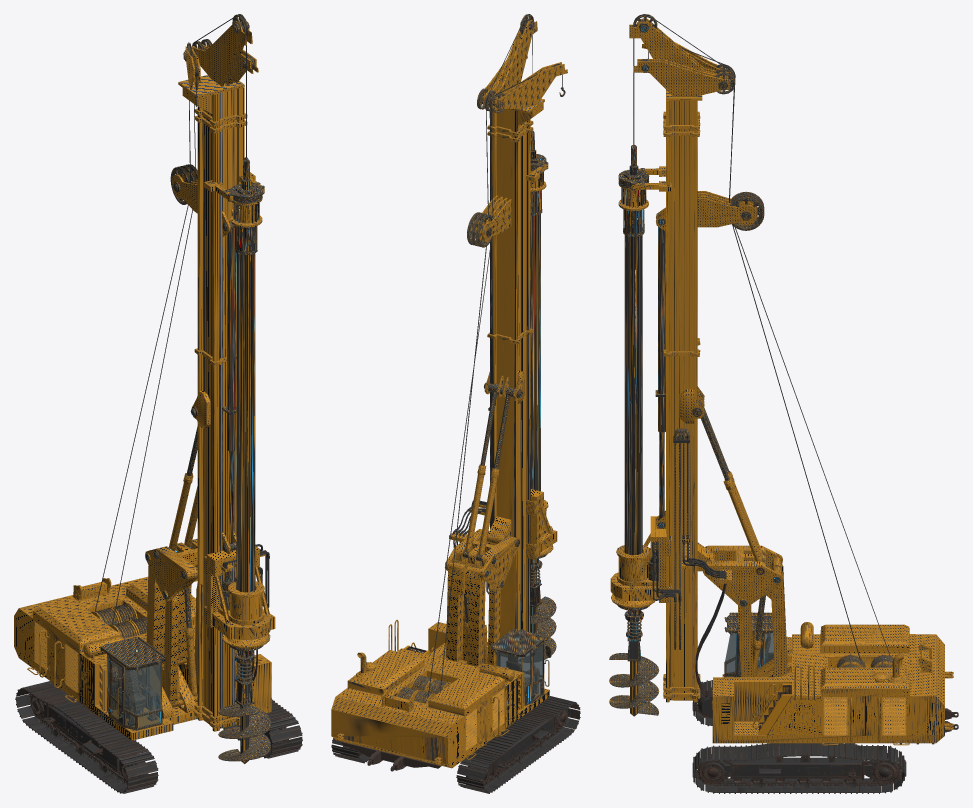
The model's file is drill-rig.glb.
The picture shows the model from 3 angles, left to right: view 1: azimuth 30°, elevation 25°; view 2: azimuth 150°, elevation 25°; view 3: azimuth 270°, elevation 25°; orthographic projection. The views are drawn at different scales.
Parts seen in each view (by area): view 1: mast, machinery_house, track_right, operator_cab, drill_string, track_left; view 2: mast, machinery_house, track_right, operator_cab, drill_string, track_left; view 3: mast, machinery_house, track_left, drill_string, operator_cab, track_right.
Boxes of the visible parts, <box> form: mast: <box>95,14,275,731</box>; machinery_house: <box>14,576,271,724</box>; track_right: <box>15,681,158,793</box>; operator_cab: <box>79,636,173,740</box>; drill_string: <box>218,431,271,763</box>; track_left: <box>223,698,302,758</box>; mast: <box>359,14,567,696</box>; machinery_house: <box>331,543,517,771</box>; track_right: <box>456,696,580,793</box>; operator_cab: <box>477,623,551,729</box>; drill_string: <box>519,368,556,662</box>; track_left: <box>331,738,369,763</box>; mast: <box>610,14,904,702</box>; machinery_house: <box>691,572,958,745</box>; track_left: <box>692,743,906,793</box>; drill_string: <box>609,399,659,716</box>; operator_cab: <box>722,612,820,677</box>; track_right: <box>692,680,712,726</box>.
Bounding box in the file's own units: 4.58 × 19.58 × 8.39.
15 materials, 12 textured.
